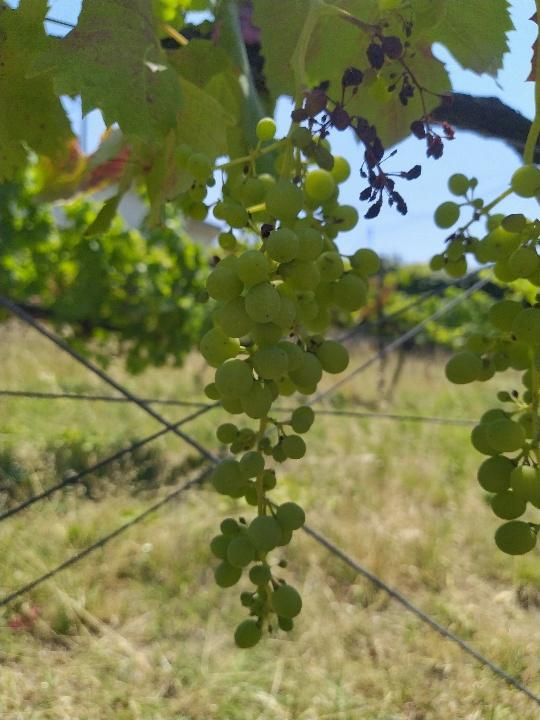grape: (174, 115, 380, 655), (287, 10, 465, 219)
